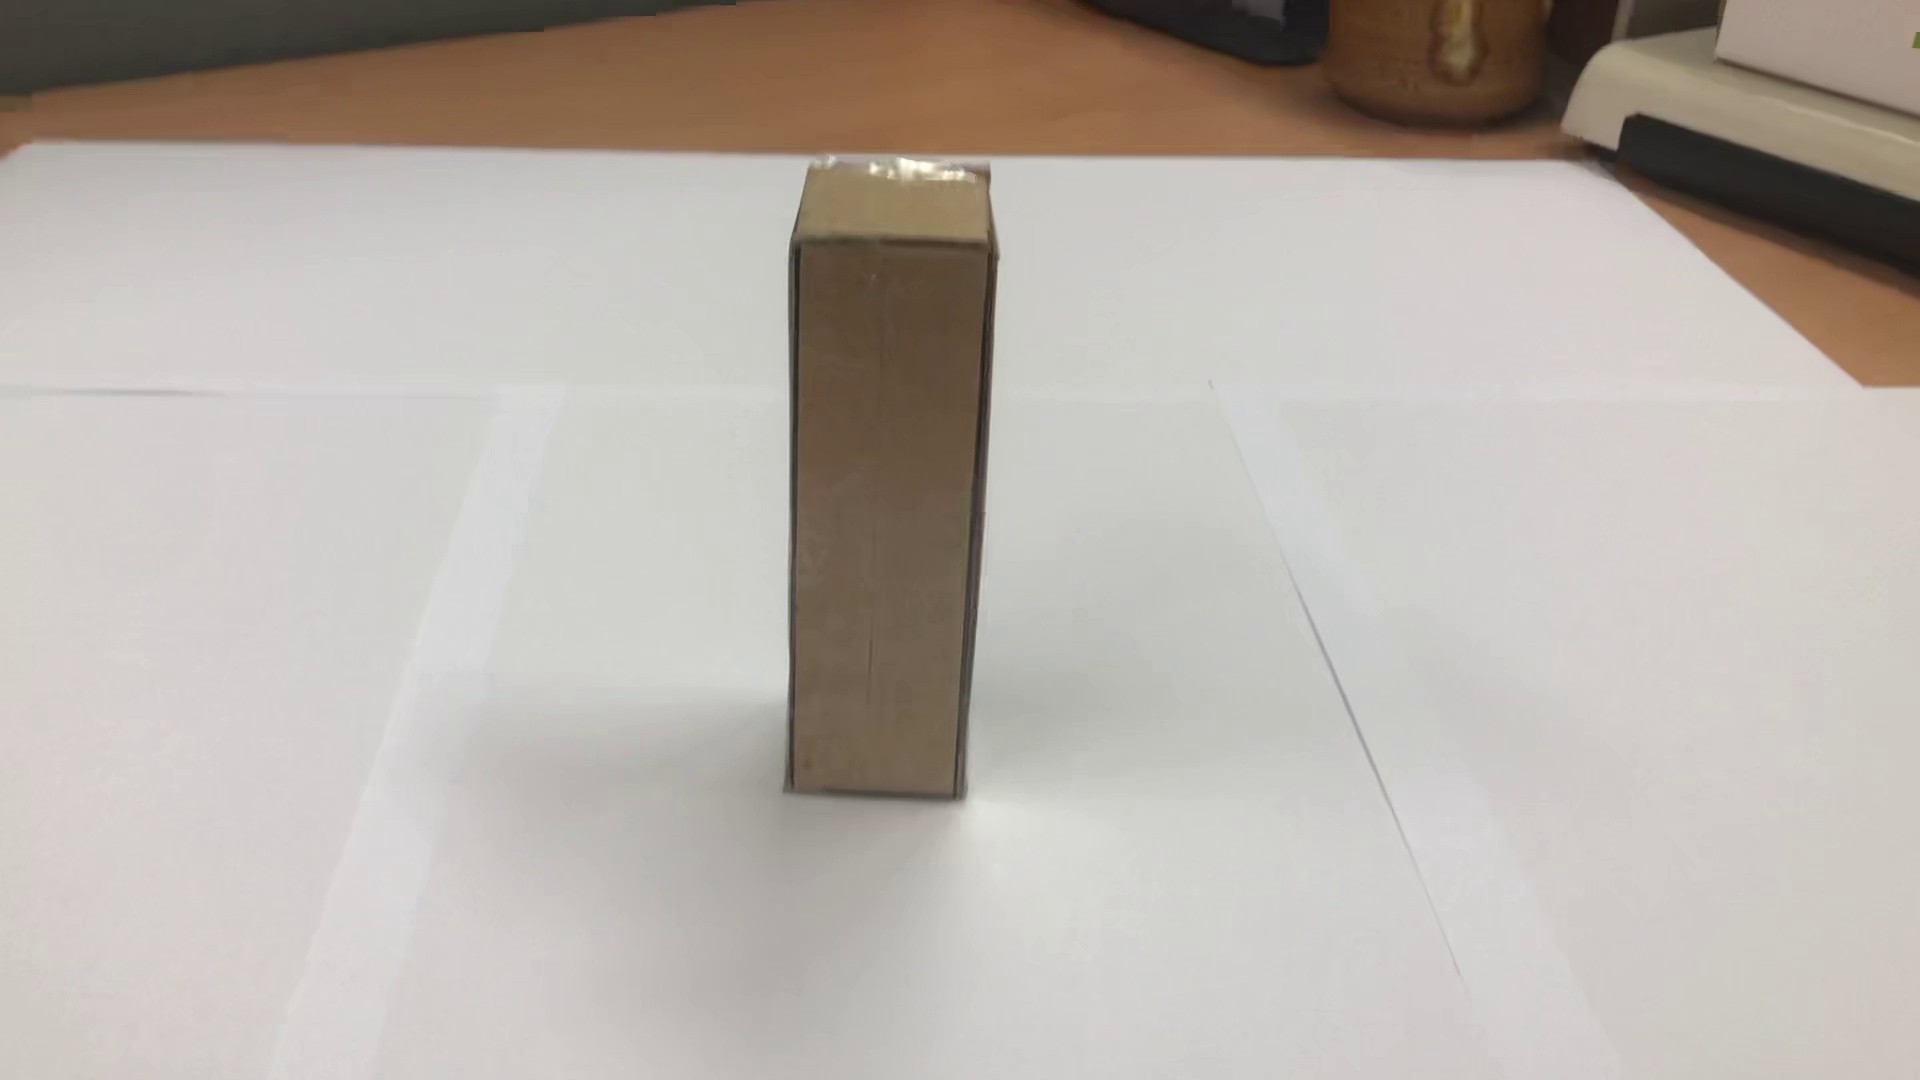box: (742, 148, 1009, 827)
